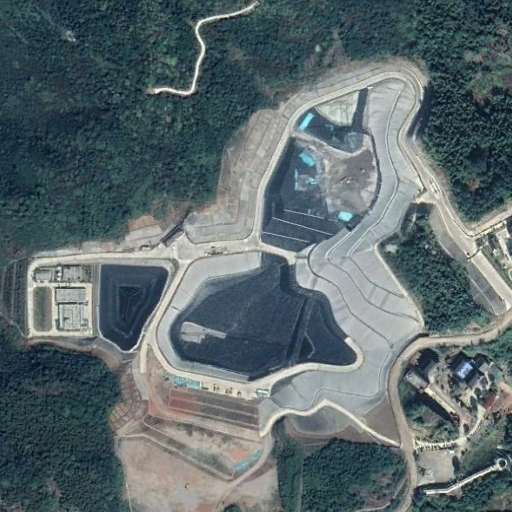lf: (157, 75, 430, 432)
